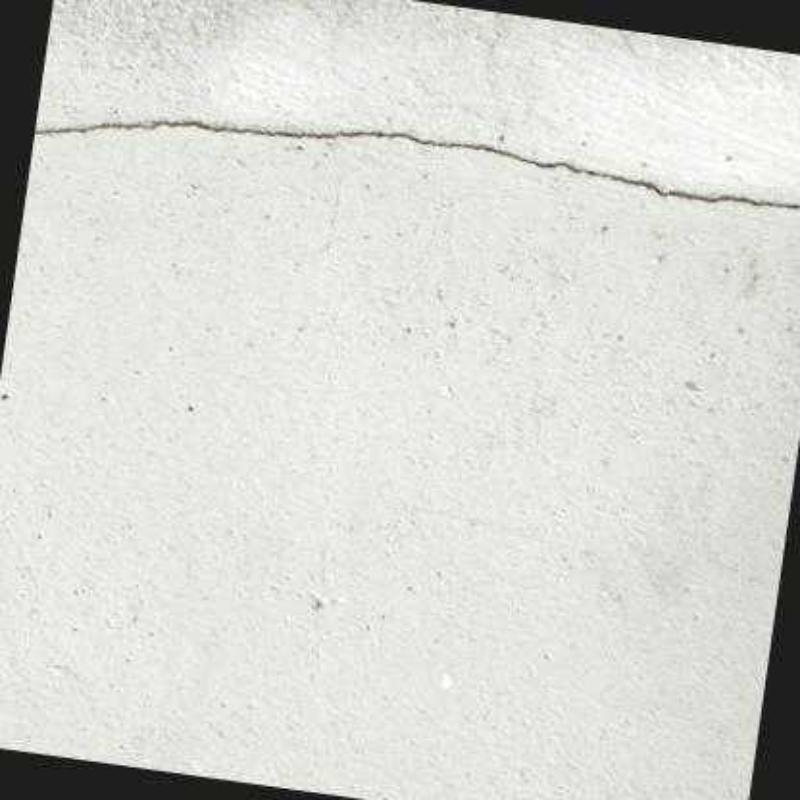pothole: (34, 117, 798, 209)
